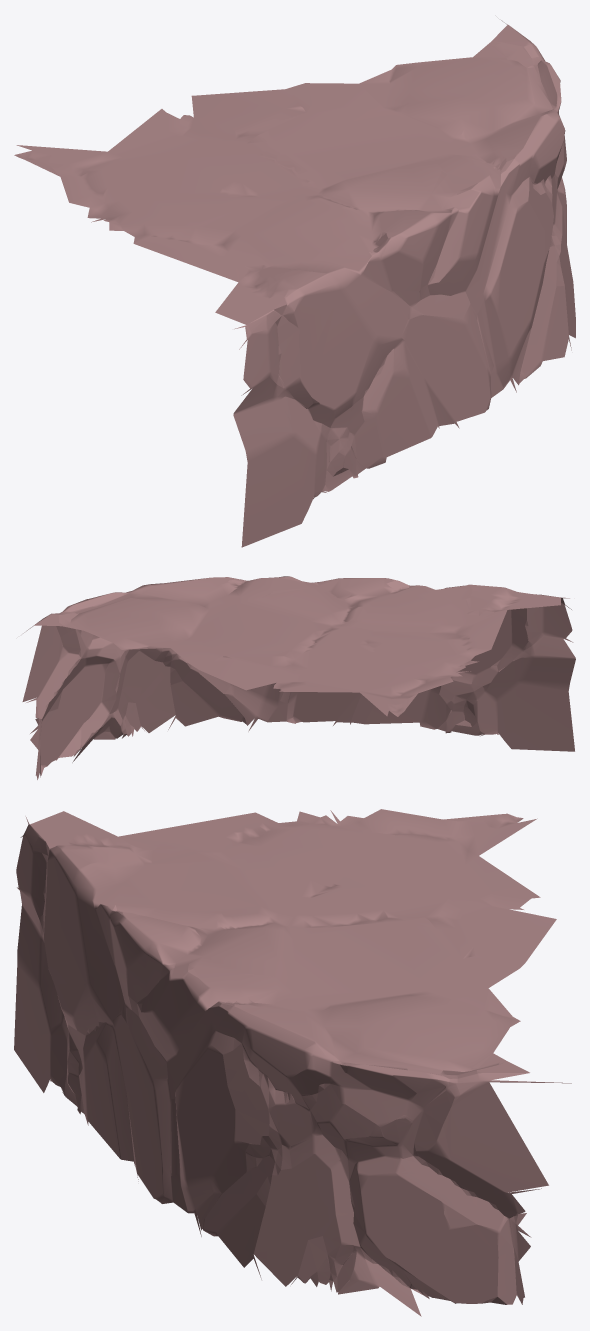
Rendered from cliff_area_2.fbx_Cliff_Area_2_015LODs.fbx.
3 renders of one model, top to bottom at view 1: azimuth 30°, elevation 25°; view 2: azimuth 150°, elevation 25°; view 3: azimuth 270°, elevation 25°, orthographic. The views are drawn at different scales.
Visible parts, largest first — view 1: Cliff Area 2.015_LOD0; view 2: Cliff Area 2.015_LOD0; view 3: Cliff Area 2.015_LOD0.
Part boxes in pixels (left/top/right/bottom): Cliff Area 2.015_LOD0: left=14, top=20, right=575, bottom=547; Cliff Area 2.015_LOD0: left=22, top=576, right=575, bottom=779; Cliff Area 2.015_LOD0: left=14, top=809, right=571, bottom=1316.
Size of what is drawn, in the model's own units: 3751 by 1589 by 3262.
